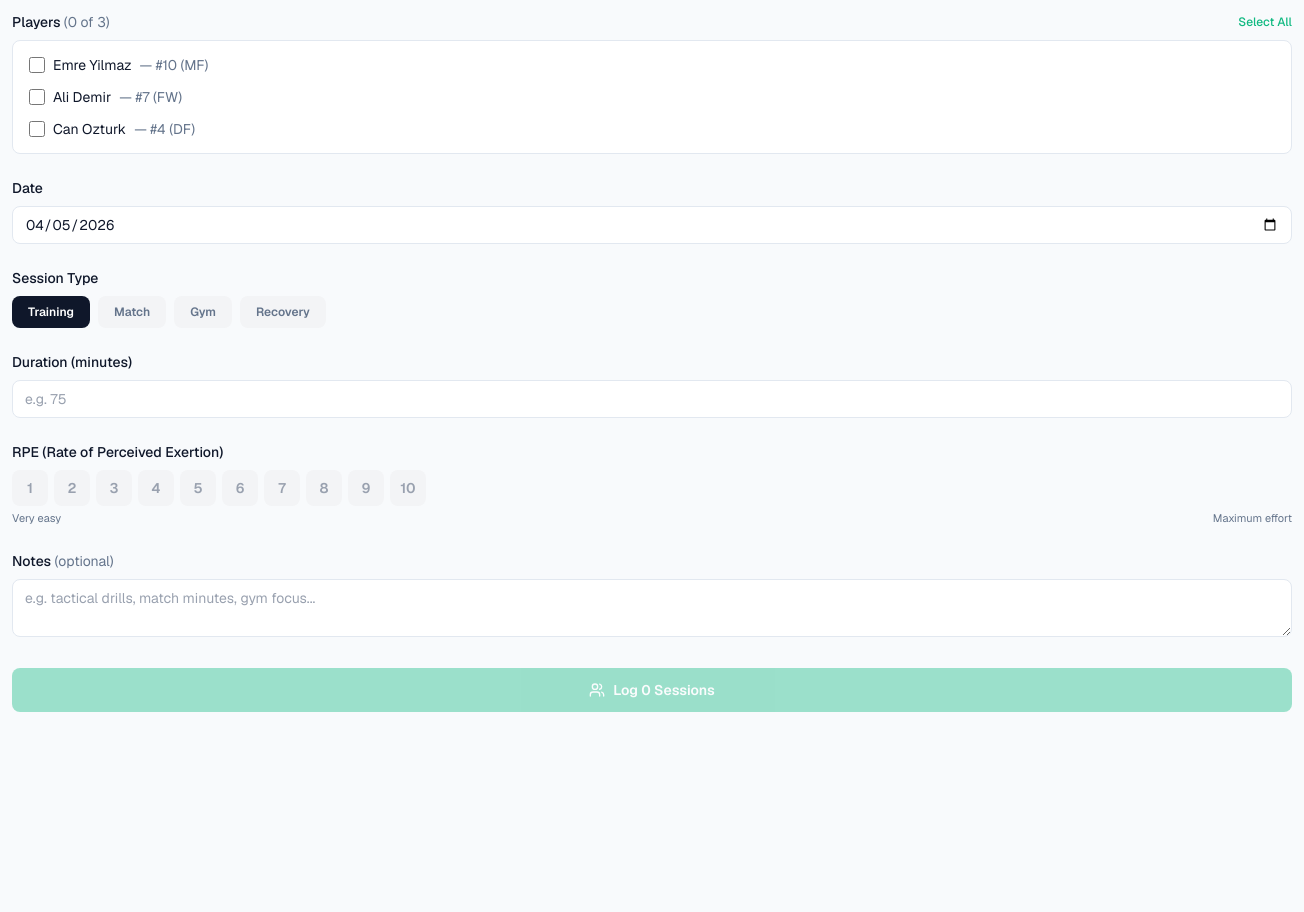
it: BulkSessionForm › shows network error on fetch failure
Click the button "Select All" at (1265, 22), box [1238, 14, 1292, 30]
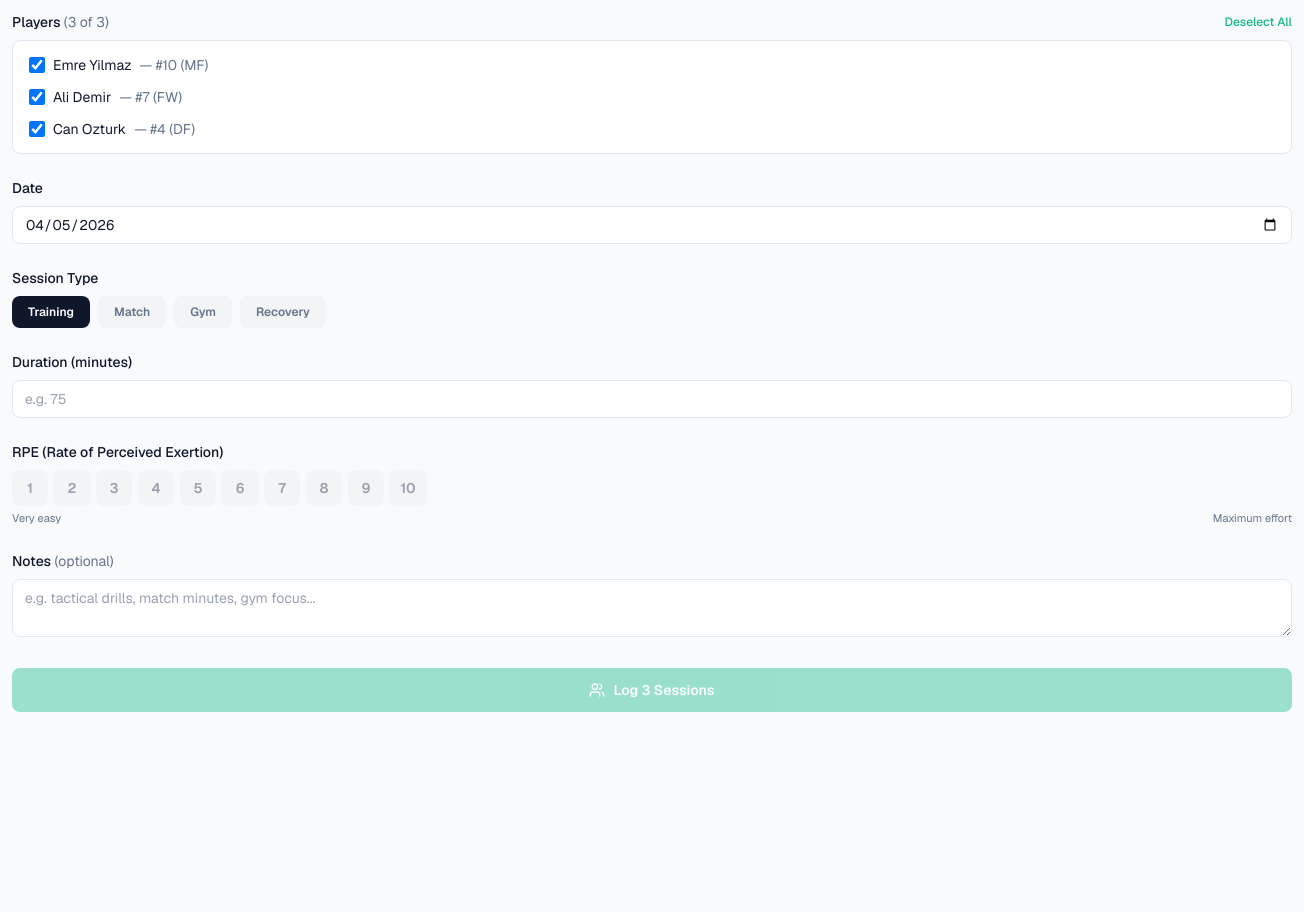
Type "75" into the number field labelled "Duration (minutes)" at (652, 399), box [12, 380, 1292, 418]
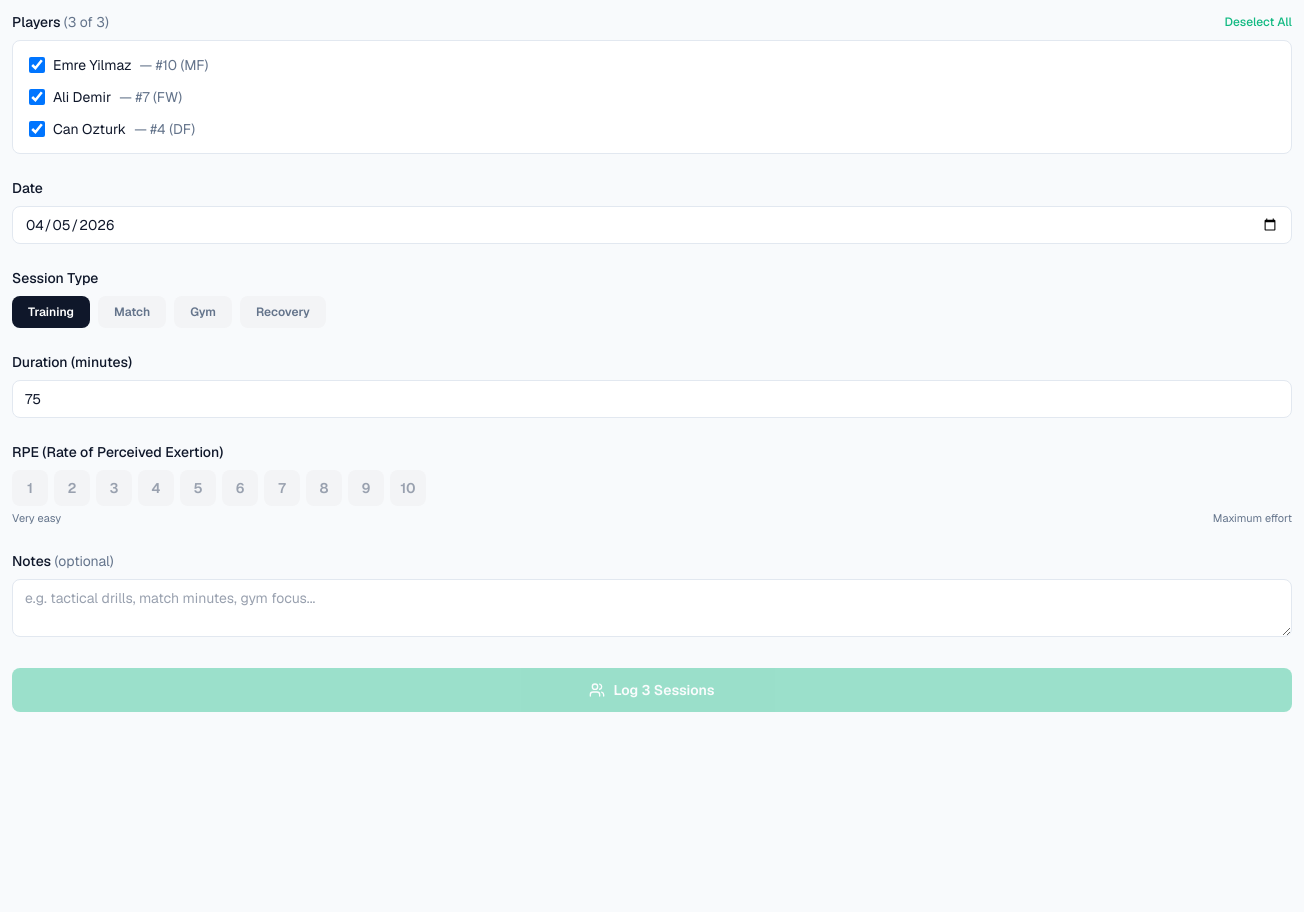
Click the button "6" at (240, 488), box [222, 470, 258, 506]
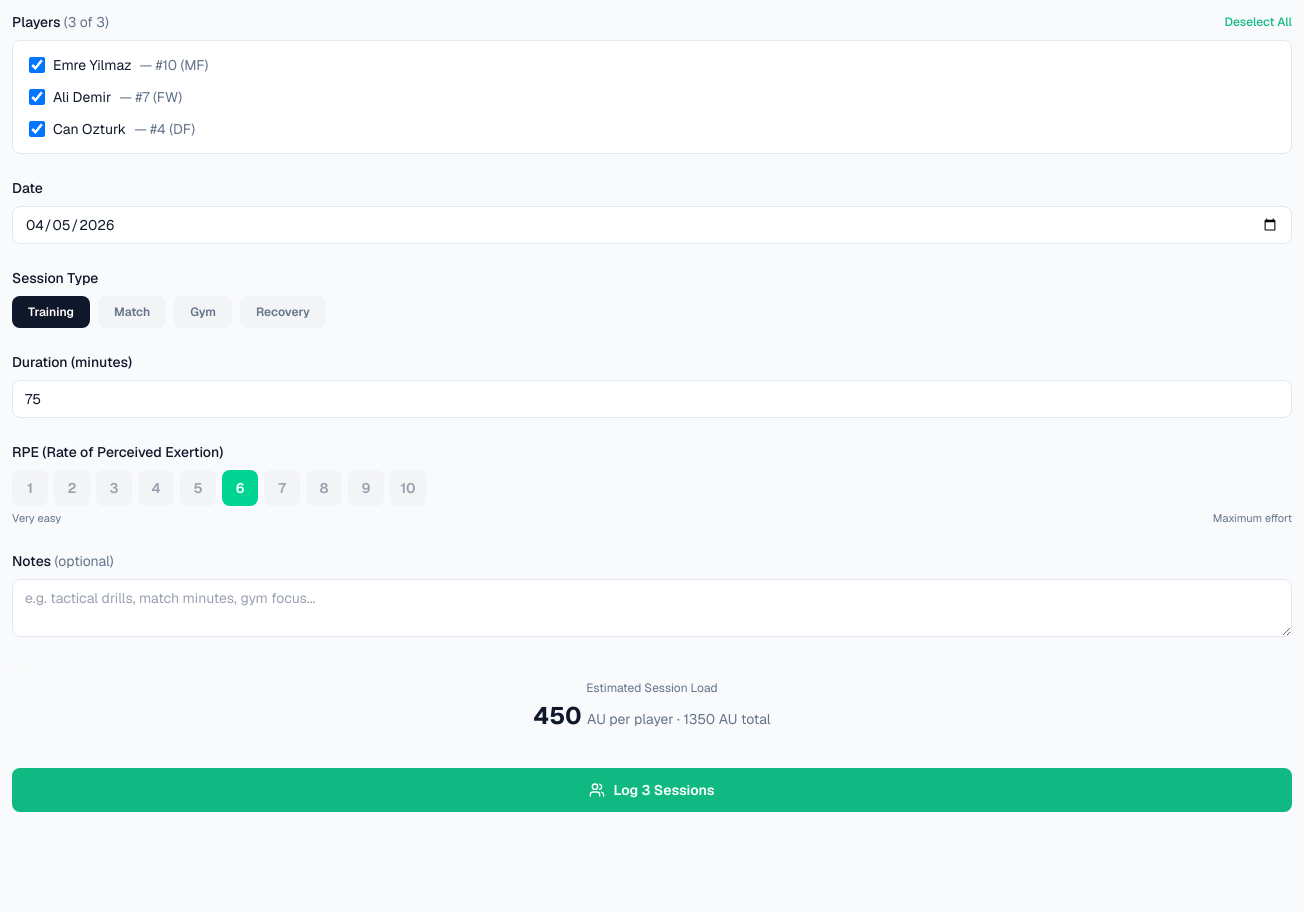
Click the button "Log 3 Sessions" at (652, 790), box [12, 768, 1292, 812]
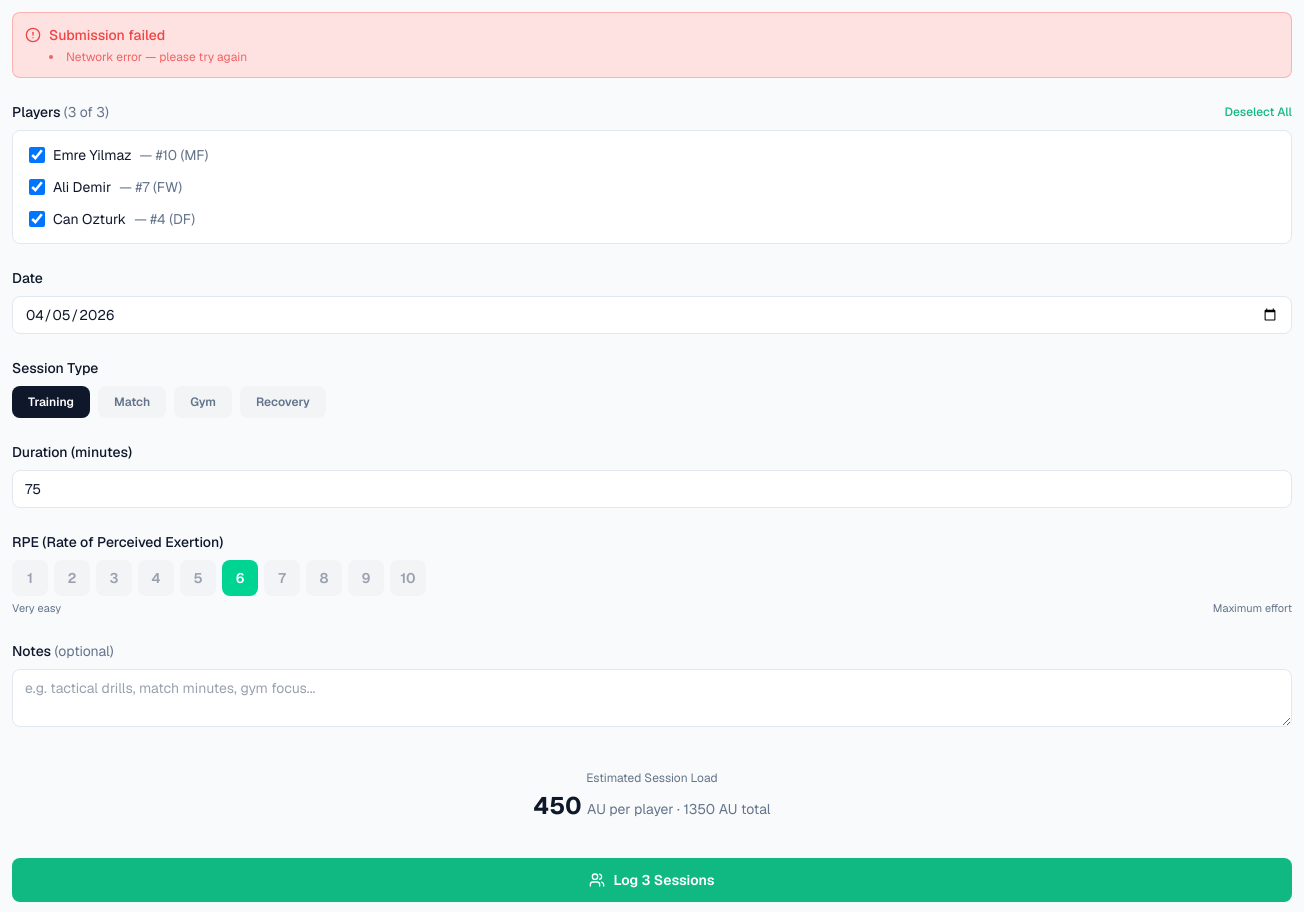
Check: the list item "Network error — please try again" is shown, box [49, 49, 247, 65]
